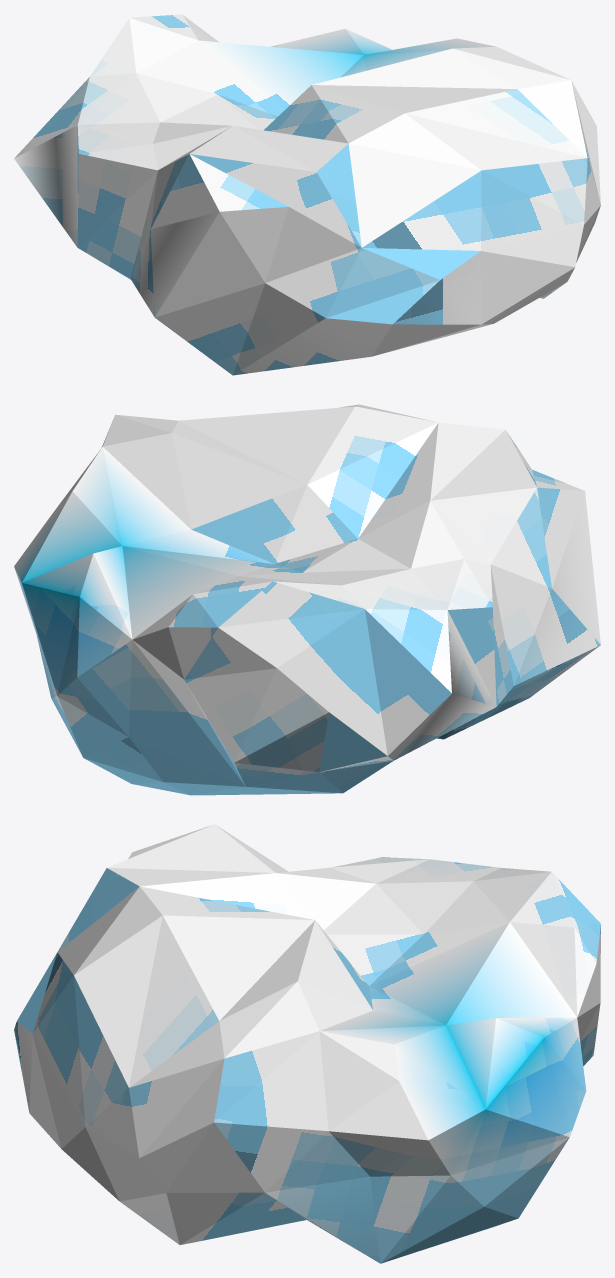
File: cloud.glb
3 views of the same model, one above another, from view 1: azimuth 30°, elevation 25°; view 2: azimuth 150°, elevation 25°; view 3: azimuth 270°, elevation 25° (orthographic). The views are drawn at different scales.
Parts seen in each view (by area): view 1: Icosphere; view 2: Icosphere; view 3: Icosphere.
Part boxes in pixels (<box>): Icosphere: <box>14,14,600,375</box>; Icosphere: <box>14,404,600,795</box>; Icosphere: <box>14,824,600,1263</box>.
Size of the model in its own units: 1.91 by 1.06 by 1.93.
Materials: 1 (1 with a texture image).
